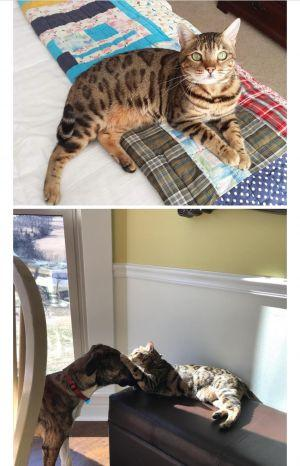bengal: (171, 13, 255, 96)
